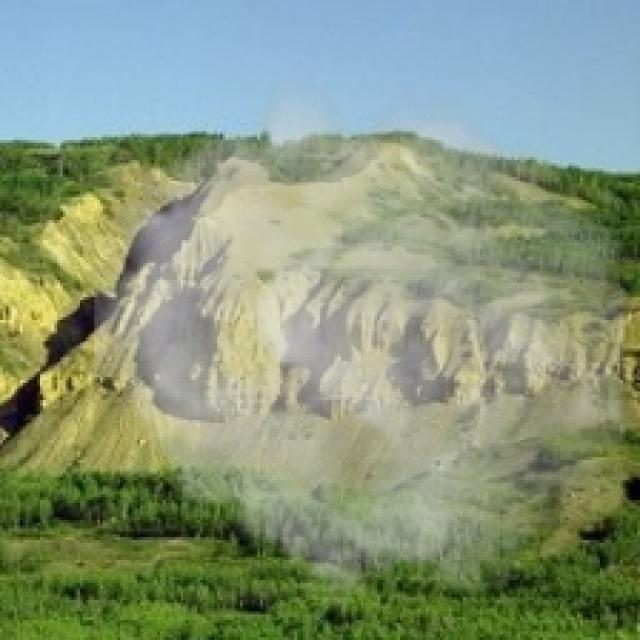smoke: (94, 75, 626, 614)
